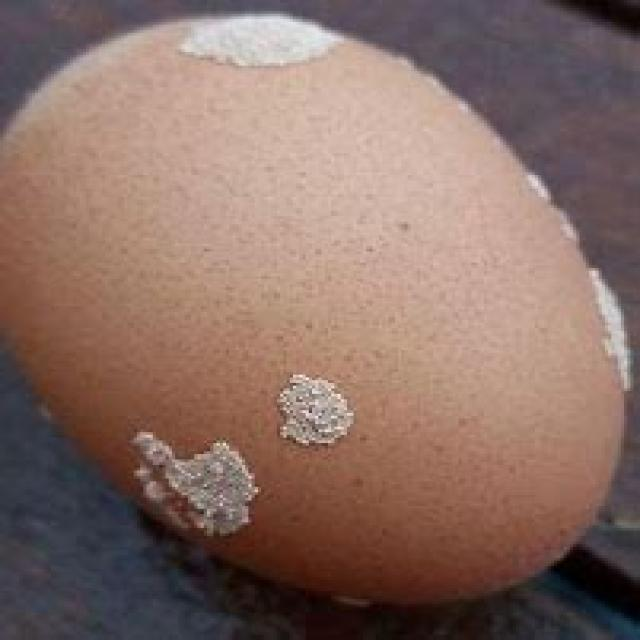Calcium Deposit Egg: (0, 7, 635, 639)
